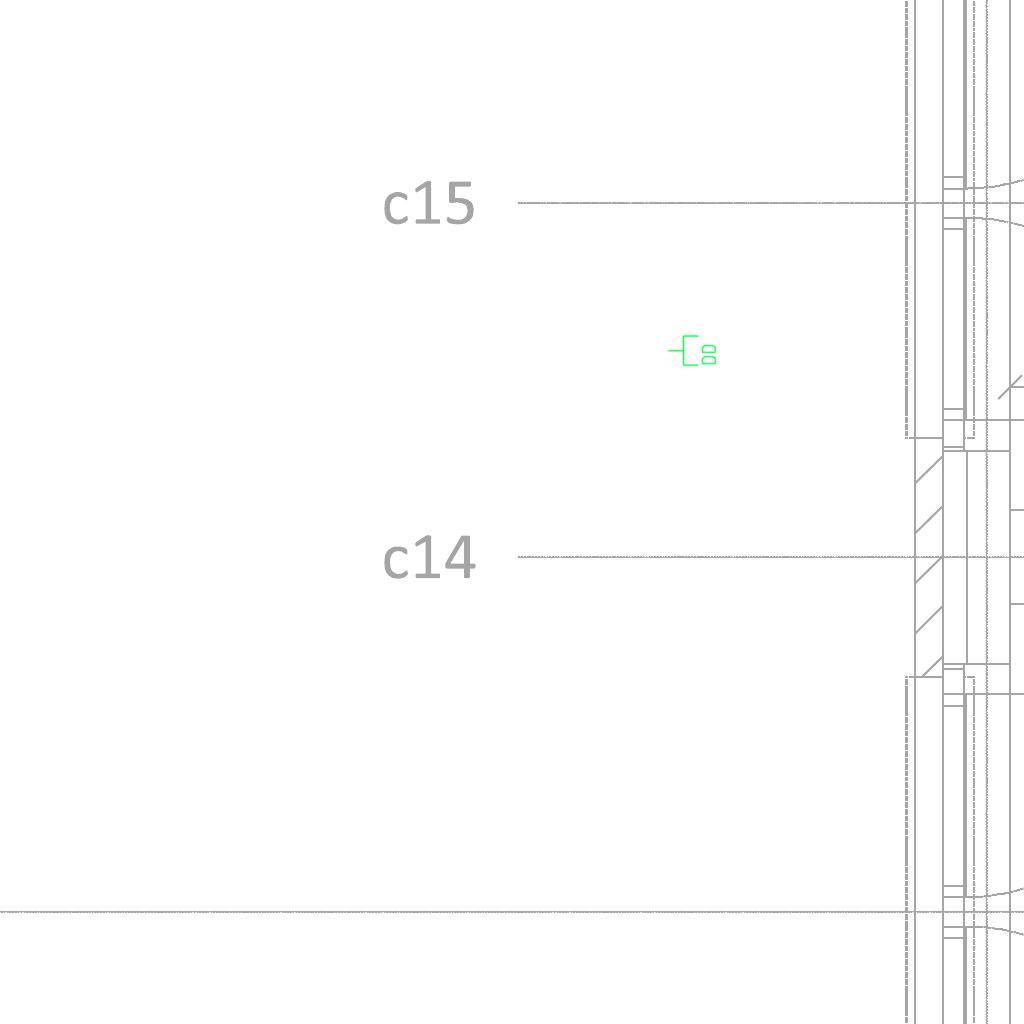Datenanschluss_zweifach: (667, 334, 718, 368)
